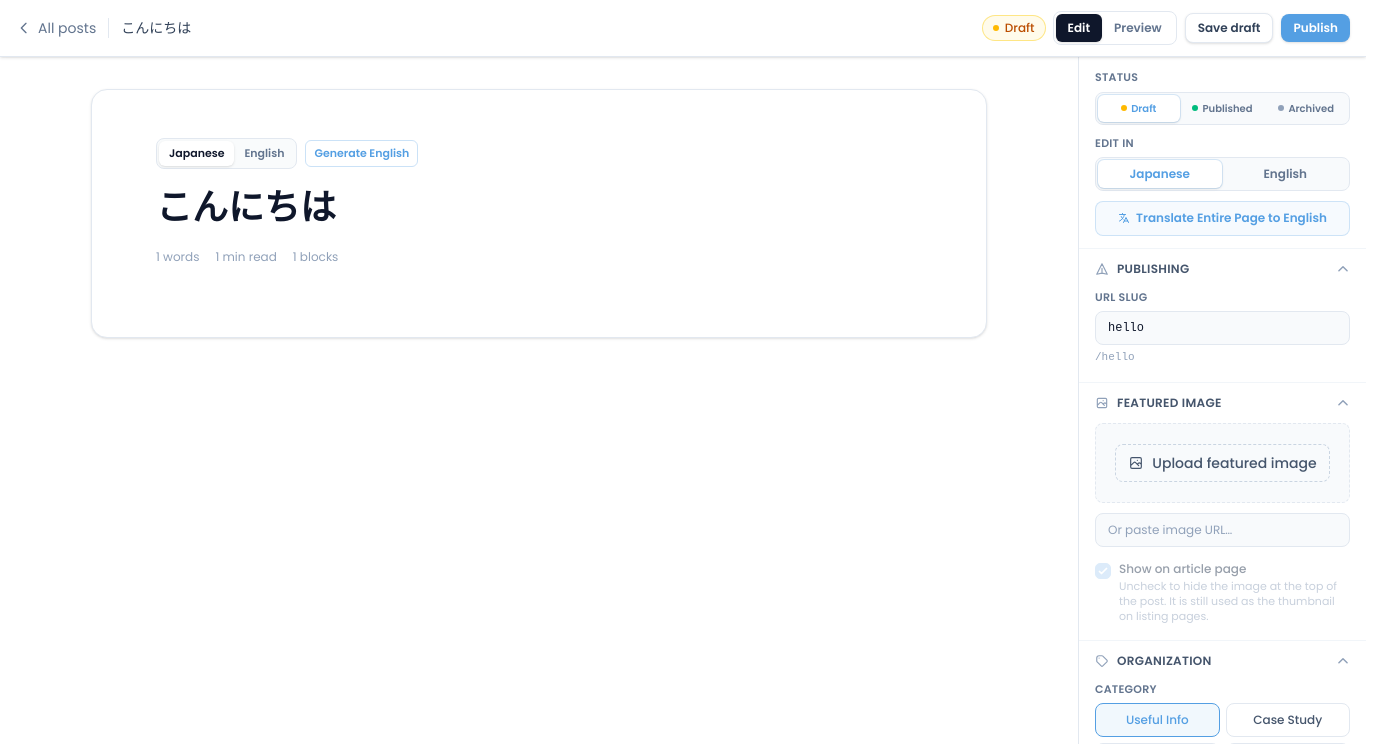
PostEditor › translate entire page fills English title and switches the view
Click the button "Translate Entire Page to English".
click(1222, 218)  # box [1095,201,1350,236]
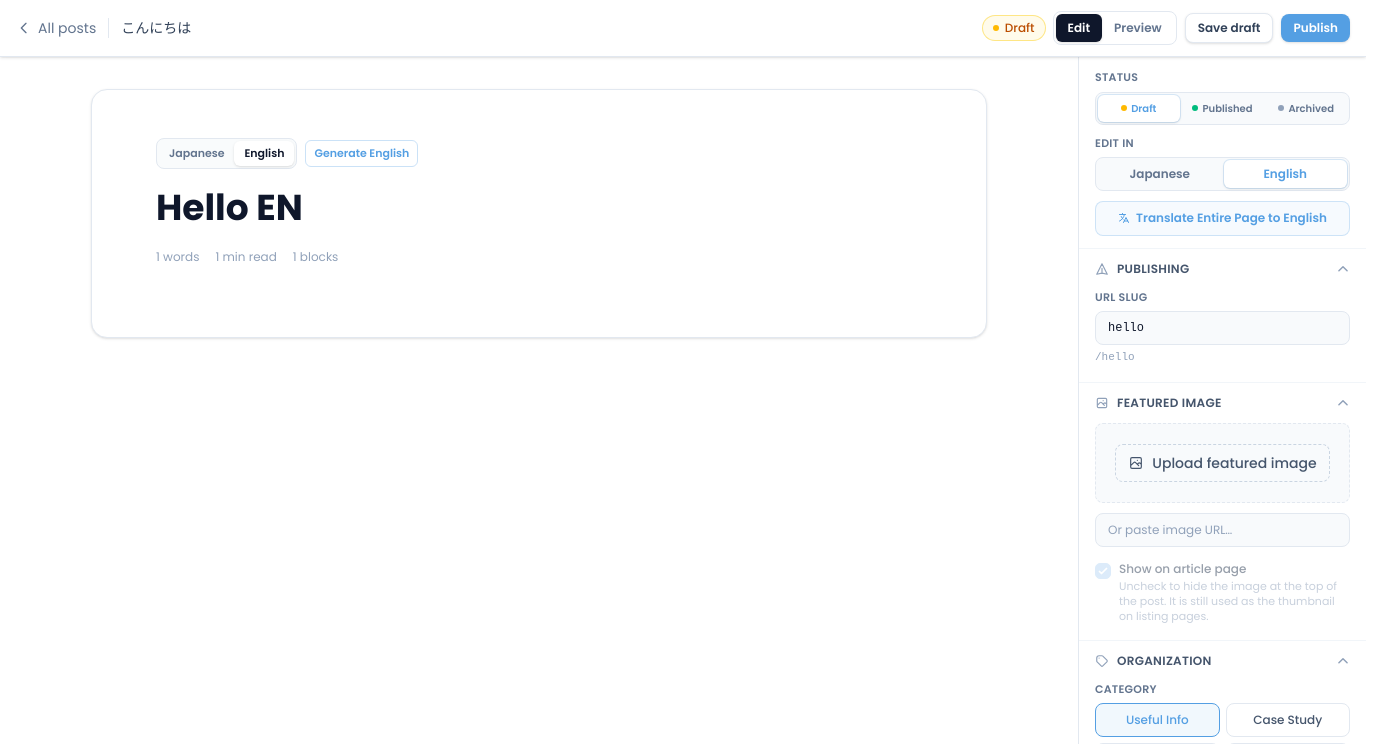
Expected: the text box showing "Hello EN" is shown, [156,184,922,230]
